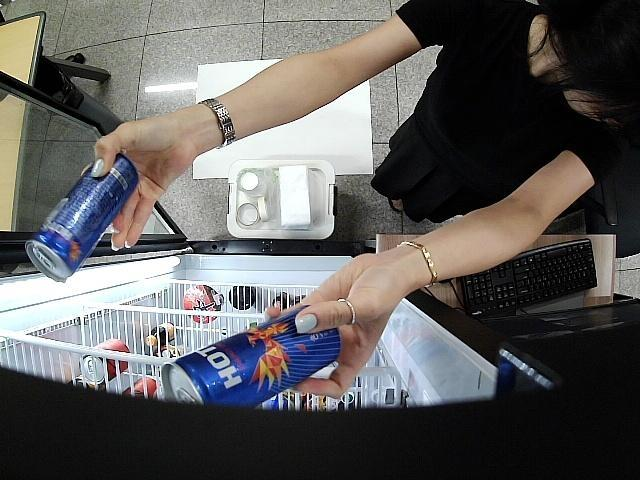16_hot6: (158, 304, 341, 411), (23, 154, 140, 286)
